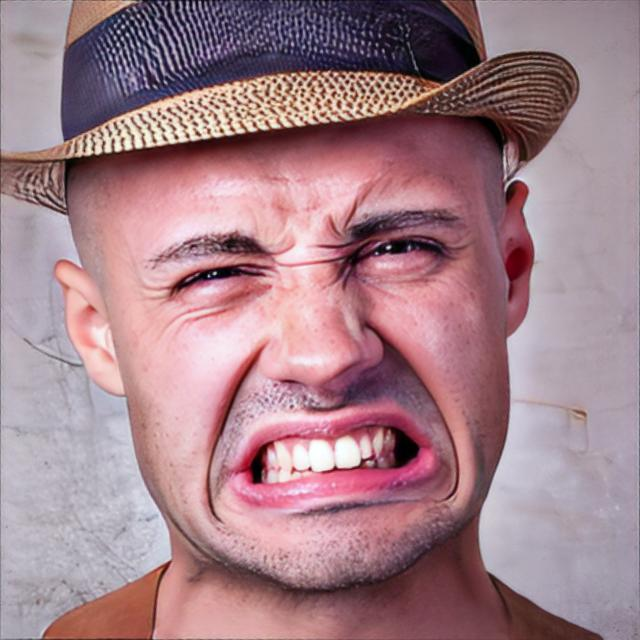disgust: (63, 109, 514, 595)
